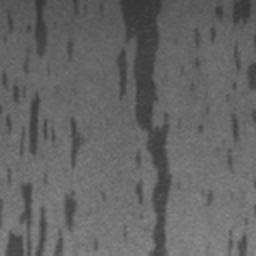Red iron sheet: (0, 0, 173, 256), (193, 0, 256, 142), (0, 168, 77, 256), (228, 236, 247, 256), (227, 154, 233, 169), (197, 123, 204, 134), (209, 193, 214, 204)
